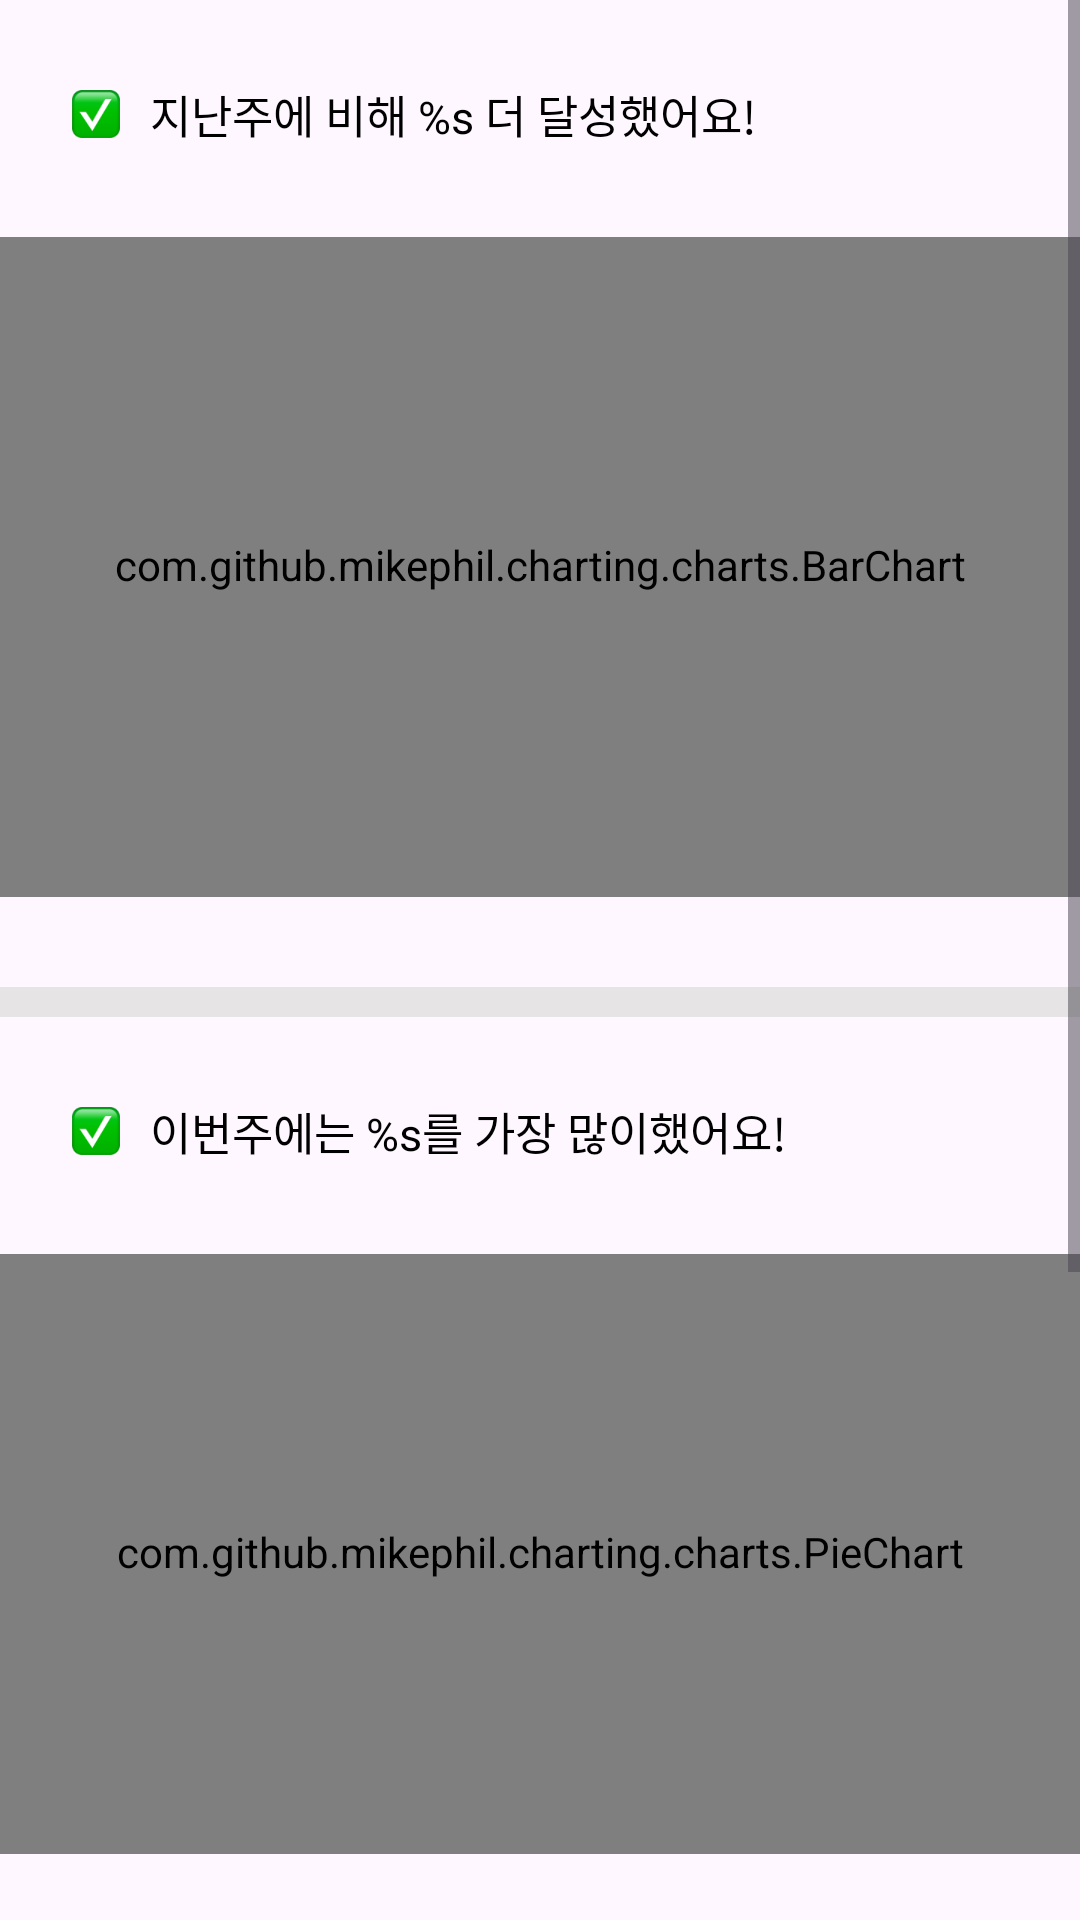

Where icons sit on this 1080px x 1920px app screen, as [x1=x1, y1=y1, x2=x2, y2=y2]:
check imogi: [x1=72, y1=90, x2=120, y2=138], [x1=72, y1=1107, x2=120, y2=1155]
